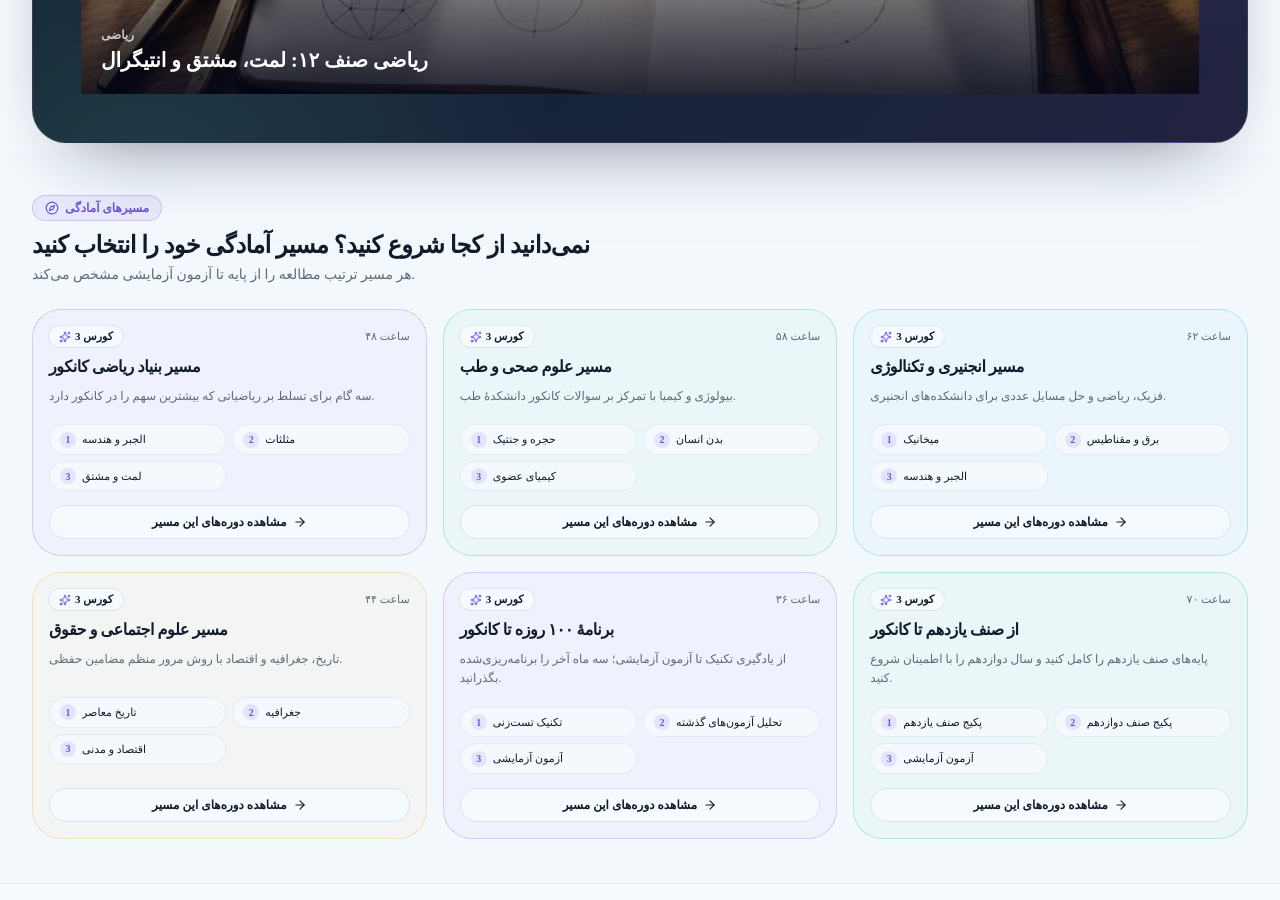
Scenario: SchoolHubView (/courses) › shows the selected roadmap courses in the configured order
(page scrolled)
Click the button "مشاهده دوره‌های این مسیر" below "مسیر بنیاد ریاضی کانکور" at coordinates (229, 522), box [49, 505, 410, 539]
(page scrolled)
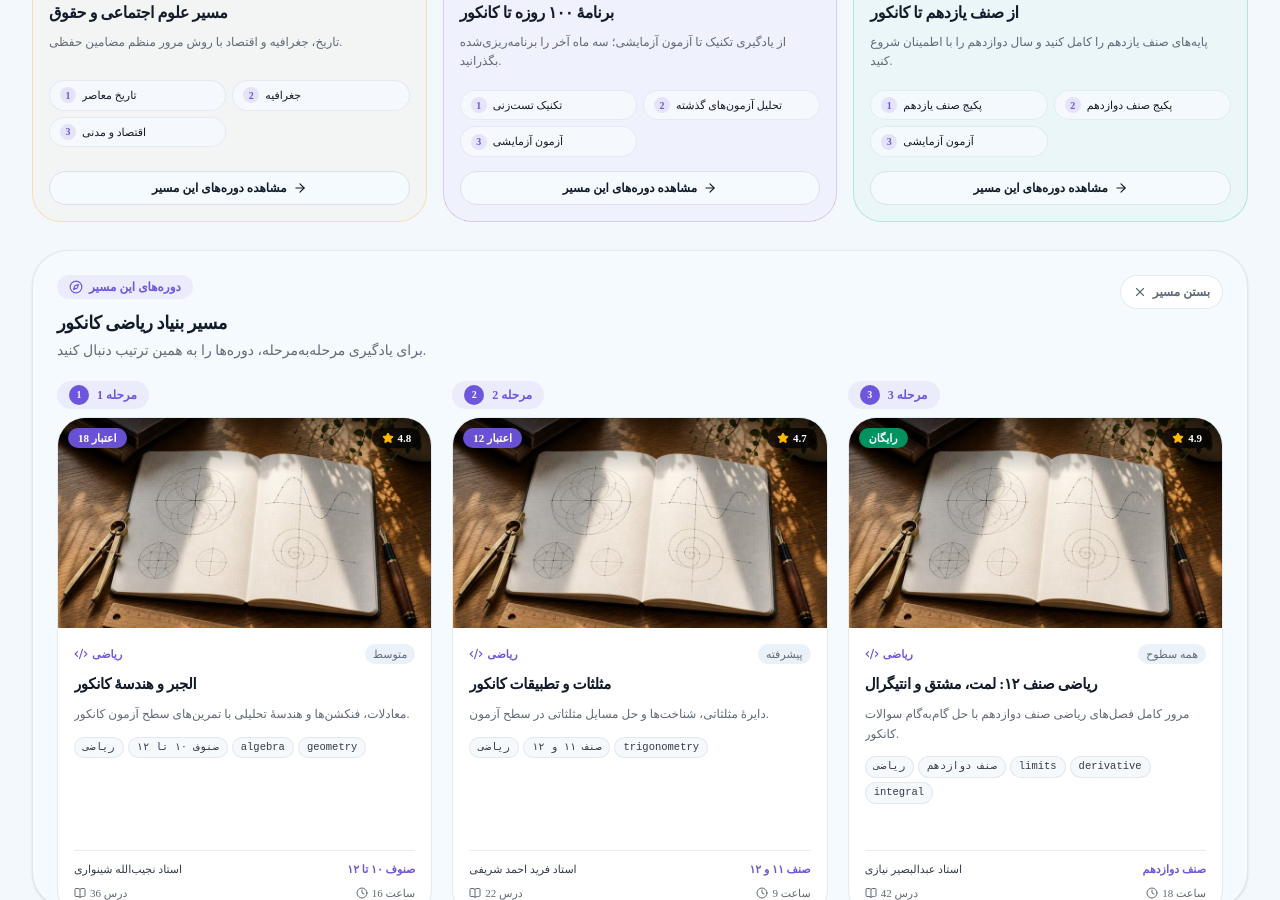
Result: the element that starts with "دوره‌های این مسیر" shows "مسیر بنیاد ریاضی کانکور" at [57, 313, 227, 333]
